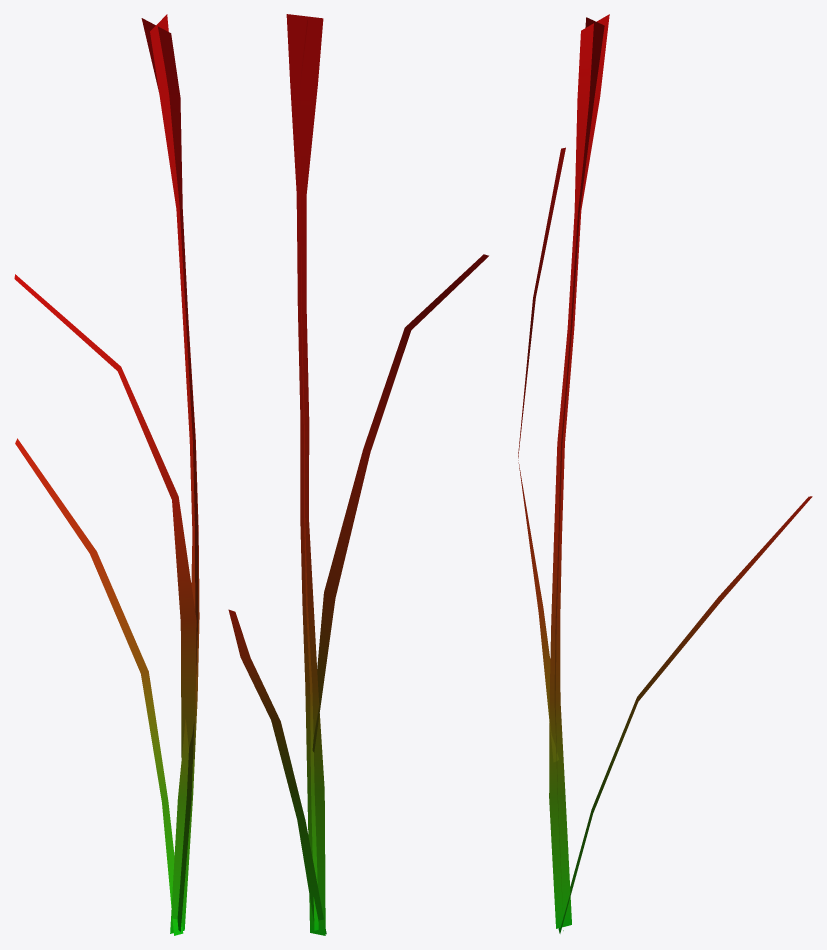
File: Tundra Grass_LOD2_Var16_wk2oaeyqx.fbx
The picture shows the model from 3 angles, left to right: view 1: azimuth 30°, elevation 25°; view 2: azimuth 150°, elevation 25°; view 3: azimuth 270°, elevation 25°; orthographic projection. The views are drawn at different scales.
Visible parts, largest first — view 1: _pskx_Var16_LOD2; view 2: _pskx_Var16_LOD2; view 3: _pskx_Var16_LOD2.
Boxes of the visible parts, x1,y1,x2,y2 form: _pskx_Var16_LOD2: (14,14,199,935); _pskx_Var16_LOD2: (228,14,488,935); _pskx_Var16_LOD2: (518,14,812,933).
Size of the model in its own units: 4.18 by 19.64 by 5.76.
